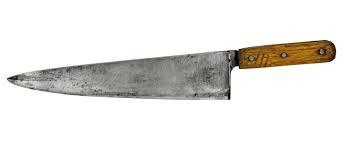Knife: (6, 39, 336, 100)
